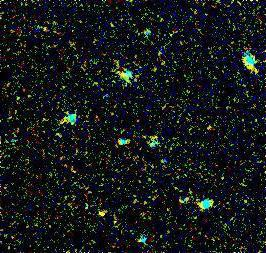star: (88, 199, 118, 229)
